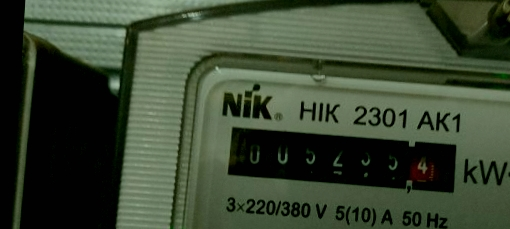0: (245, 140, 263, 167), (274, 139, 290, 165)
2: (329, 142, 345, 168)
3: (357, 142, 373, 168)
4: (414, 149, 430, 176)
5: (384, 144, 401, 172), (301, 140, 318, 167)
screen: (217, 117, 469, 202)
